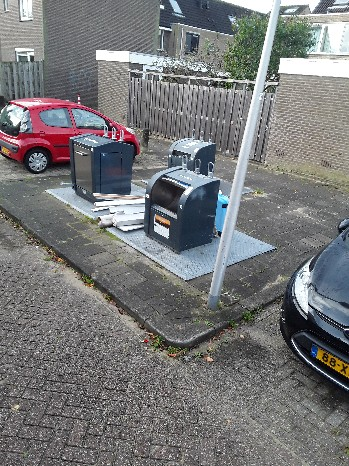Container: (145, 165, 214, 253), (75, 138, 114, 194), (159, 146, 210, 179)
Voertuig: (9, 92, 133, 154), (305, 239, 349, 366), (93, 189, 150, 226)
